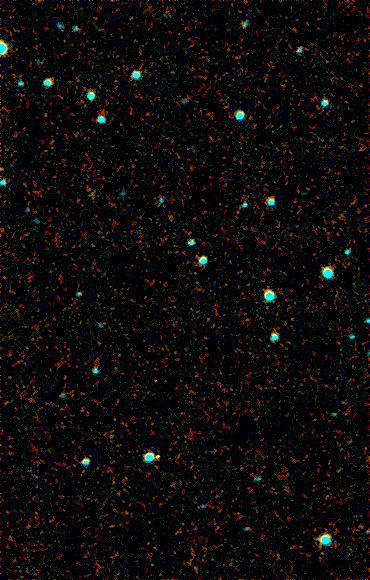star: (143, 442, 173, 472)
